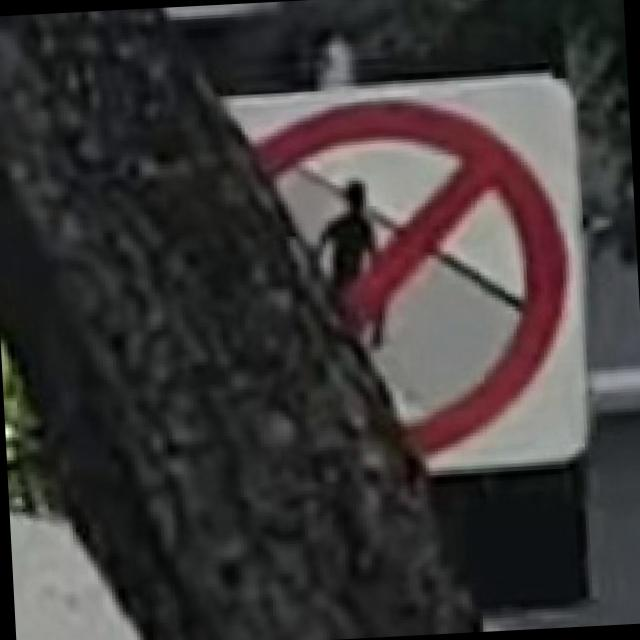nojaywalking_sign: (213, 64, 599, 488), (306, 173, 388, 311)
